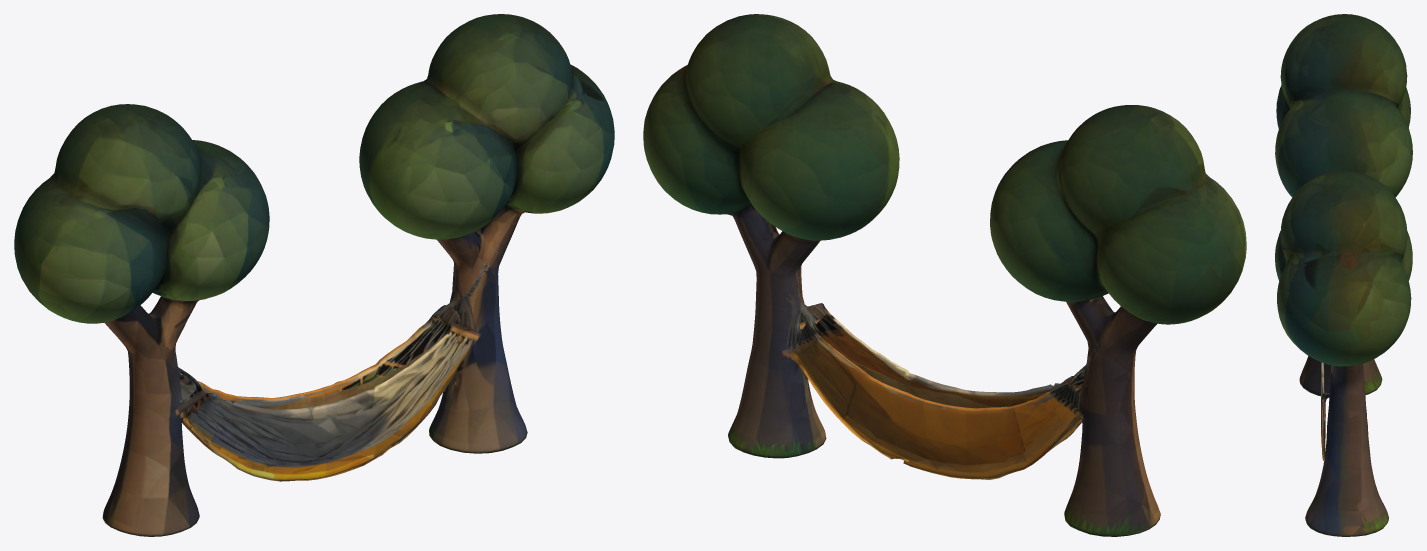
File: AIhammock.glb
3 views of the same model, side by side, from view 1: azimuth 30°, elevation 25°; view 2: azimuth 150°, elevation 25°; view 3: azimuth 270°, elevation 25° (orthographic). The views are drawn at different scales.
Size of the model in its own units: 2 by 1.35 by 0.478.
Materials: 1 (1 with a texture image).
